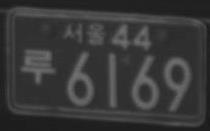1: (97, 52, 125, 109)
4: (108, 21, 132, 51), (132, 22, 153, 52)
6: (128, 52, 161, 112), (65, 49, 96, 108)
9: (162, 55, 194, 113)
루: (19, 47, 56, 86)
서울_O: (60, 21, 108, 47)
